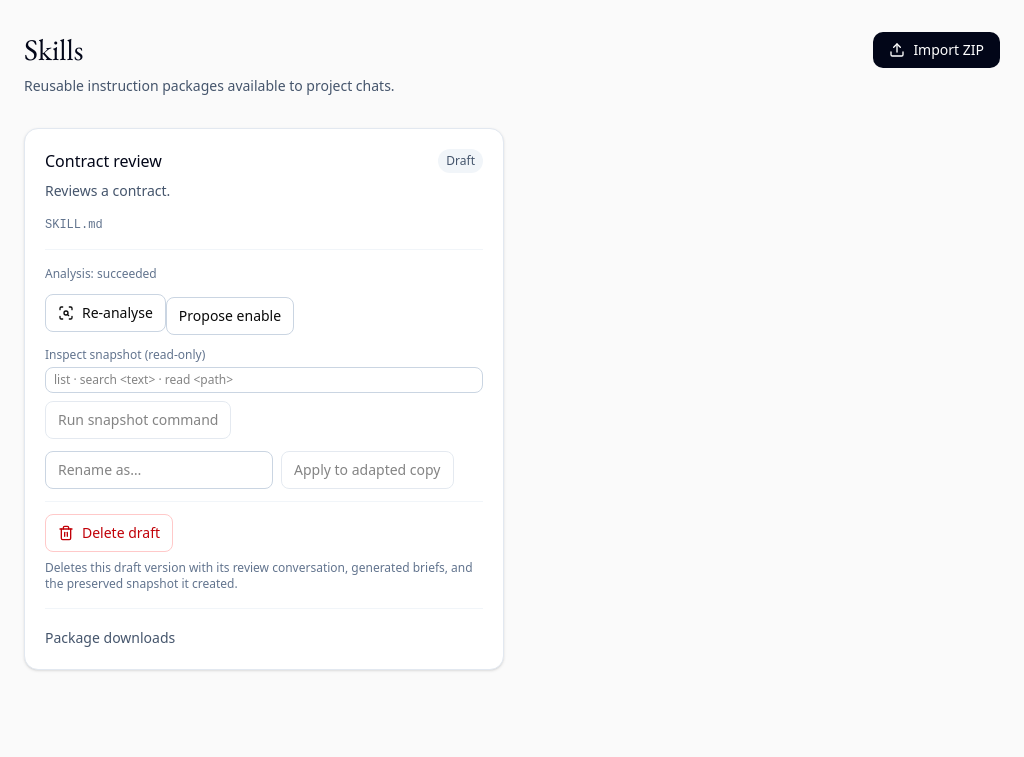
Test case: SkillsLibrary › shows the amendable pending action and sends the amendment verbatim
Click the button "Propose enable" at (230, 316), box left=166, top=297, right=294, bottom=335
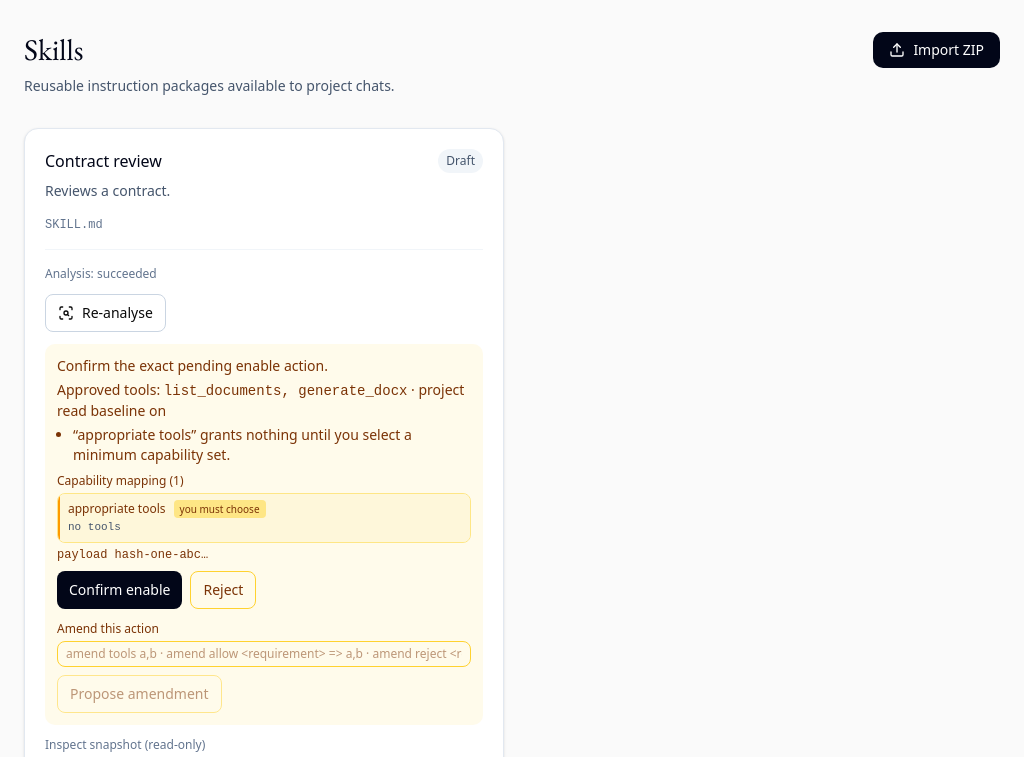
Result: the list item "grants nothing until you select a minimum" is shown at left=73, top=425, right=412, bottom=464
Result: the text "list_documents, generate_docx" is shown at left=164, top=383, right=407, bottom=399
Type "amend tools list_documents" into the field labelled "Amend this action" at (264, 654), box left=57, top=641, right=471, bottom=667
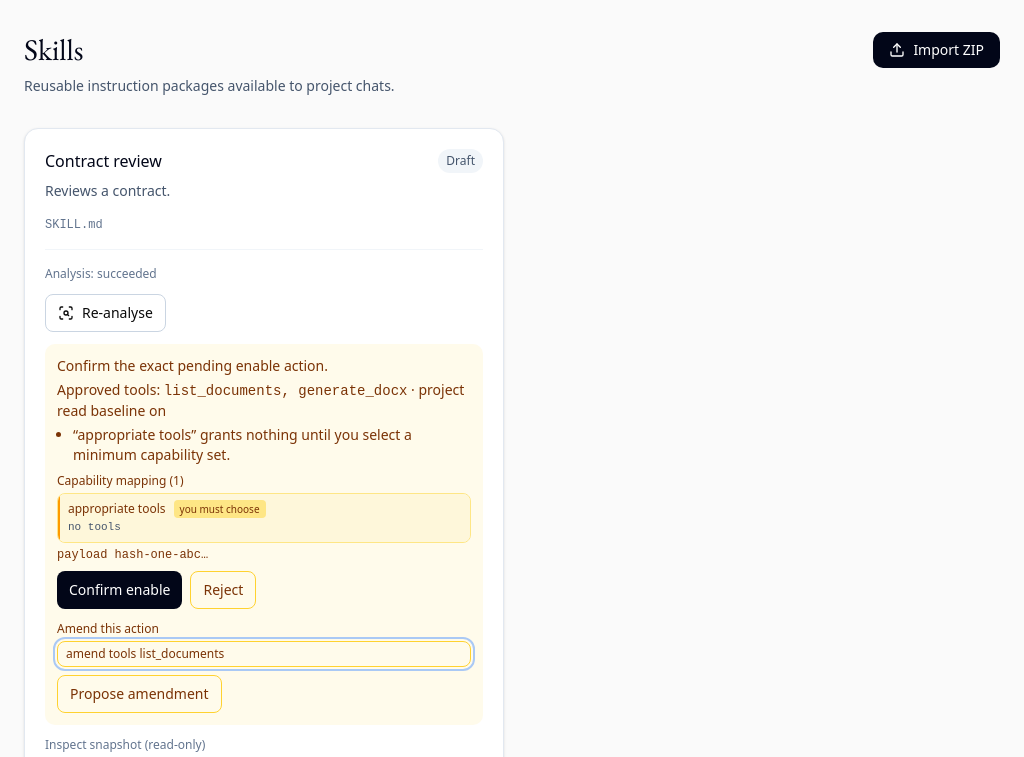
Click the button "Propose amendment" at (139, 694), box left=57, top=675, right=222, bottom=713
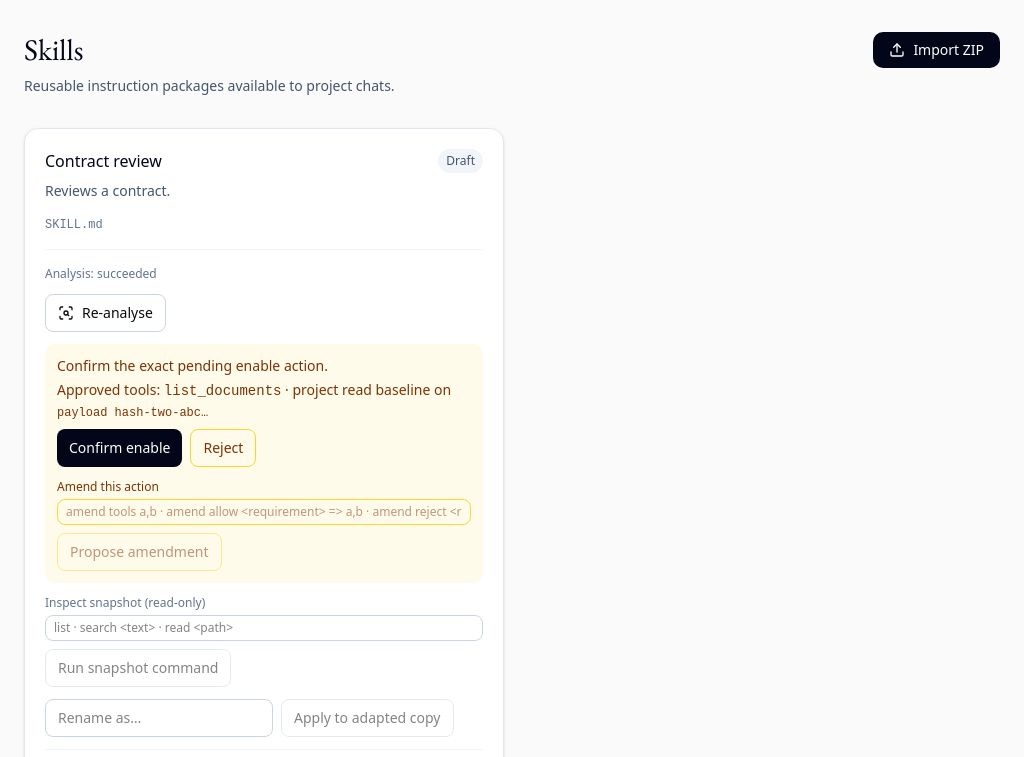
Result: the text "payload hash-two-abc…" is shown at left=57, top=406, right=208, bottom=420
